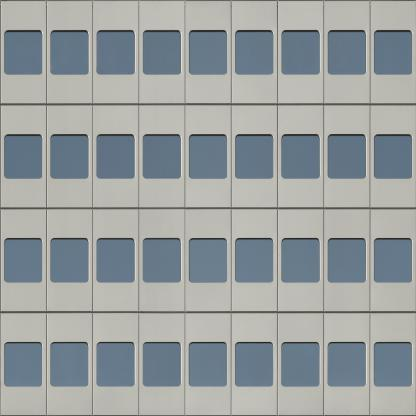Building Outline: (0, 1, 416, 416)
Facade: (0, 1, 416, 416)
Floor: (0, 311, 416, 410), (0, 207, 416, 306), (0, 0, 416, 98), (0, 104, 416, 202)
Floor Slab: (0, 202, 416, 208), (0, 410, 416, 415), (0, 98, 416, 103), (0, 306, 416, 311)
Window: (374, 342, 413, 387), (282, 342, 321, 387), (50, 342, 89, 387), (4, 342, 43, 387), (143, 342, 182, 387), (97, 342, 136, 387), (235, 342, 274, 387), (189, 342, 228, 387), (328, 342, 367, 387), (374, 238, 413, 283), (282, 238, 321, 283), (50, 238, 89, 283), (4, 238, 43, 283), (143, 238, 182, 283), (97, 238, 136, 283), (235, 238, 274, 283), (189, 238, 228, 283), (328, 238, 367, 283), (374, 134, 413, 179), (282, 134, 321, 179), (50, 134, 89, 179), (4, 134, 43, 179), (143, 134, 182, 179), (97, 134, 136, 179), (235, 134, 274, 179), (189, 134, 228, 179), (328, 134, 367, 179), (374, 30, 413, 75), (282, 30, 321, 75), (50, 30, 89, 75), (4, 30, 43, 75), (143, 30, 182, 75), (97, 30, 136, 75), (235, 30, 274, 75), (189, 30, 228, 75), (328, 30, 367, 75)
